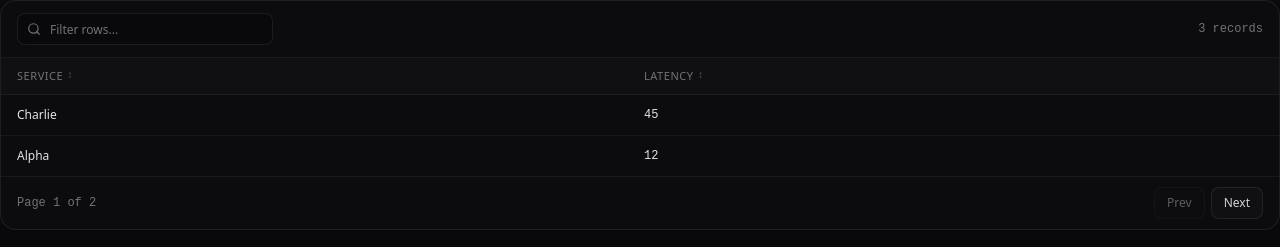
it: haarls-ui-primitives › DataTable<T> sorts columns, filters rows, paginates, and shows empty state
Check: the text "Page 1 of 2" is shown, box [17, 195, 96, 211]
Click the button "Service ↕". click: (45, 76)
box: [17, 68, 74, 84]
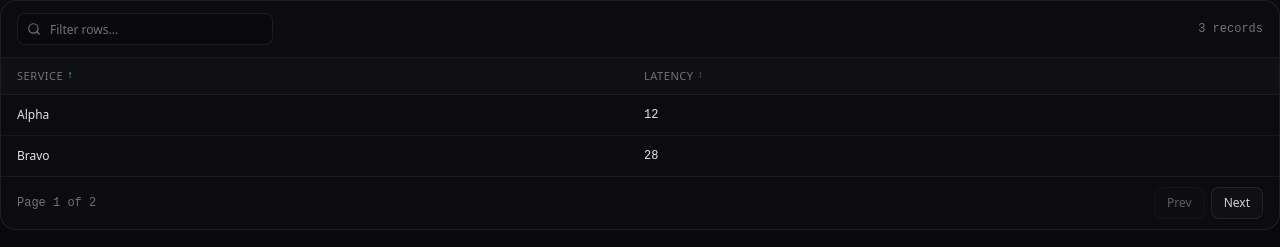
Check: the cell "Alpha" is shown, box [1, 94, 628, 136]
Type "nonexistent" into the search field with placeholder "Filter rows...". click: (145, 29)
box: [17, 13, 273, 45]
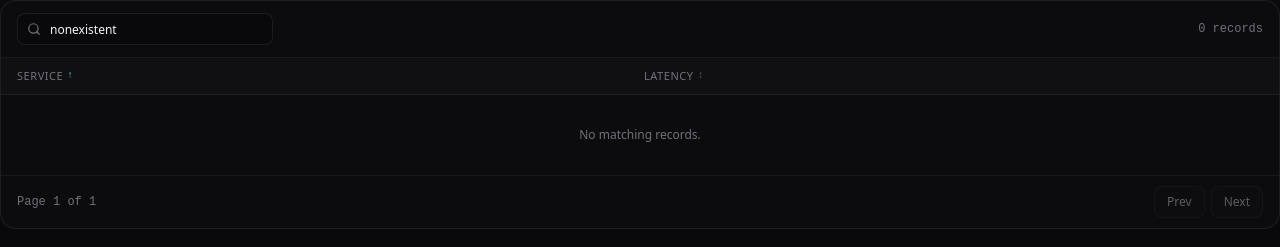
Check: the text "No matching records." is shown, box [1, 94, 1279, 175]
